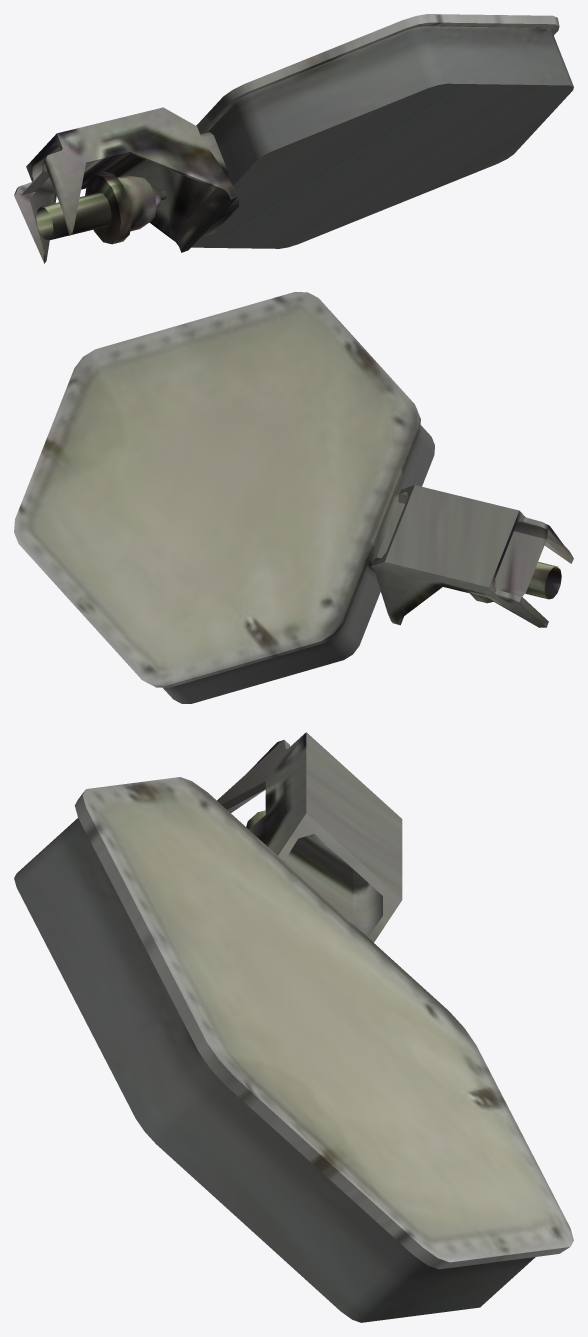
The model's file is hga_dish_link.dae.
3 views of the same model, one above another, from view 1: azimuth 30°, elevation 25°; view 2: azimuth 150°, elevation 25°; view 3: azimuth 270°, elevation 25° (orthographic). The views are drawn at different scales.
Visible parts, largest first — view 1: hga_dish_link; view 2: hga_dish_link; view 3: hga_dish_link.
Boxes of the visible parts, box(x1,y1,x2,y2) form: hga_dish_link: box(14, 14, 573, 263); hga_dish_link: box(14, 292, 573, 703); hga_dish_link: box(14, 732, 573, 1322).
Size of the model in its own units: 0.3976 by 0.2474 by 0.2474.
1 material, 1 textured.
